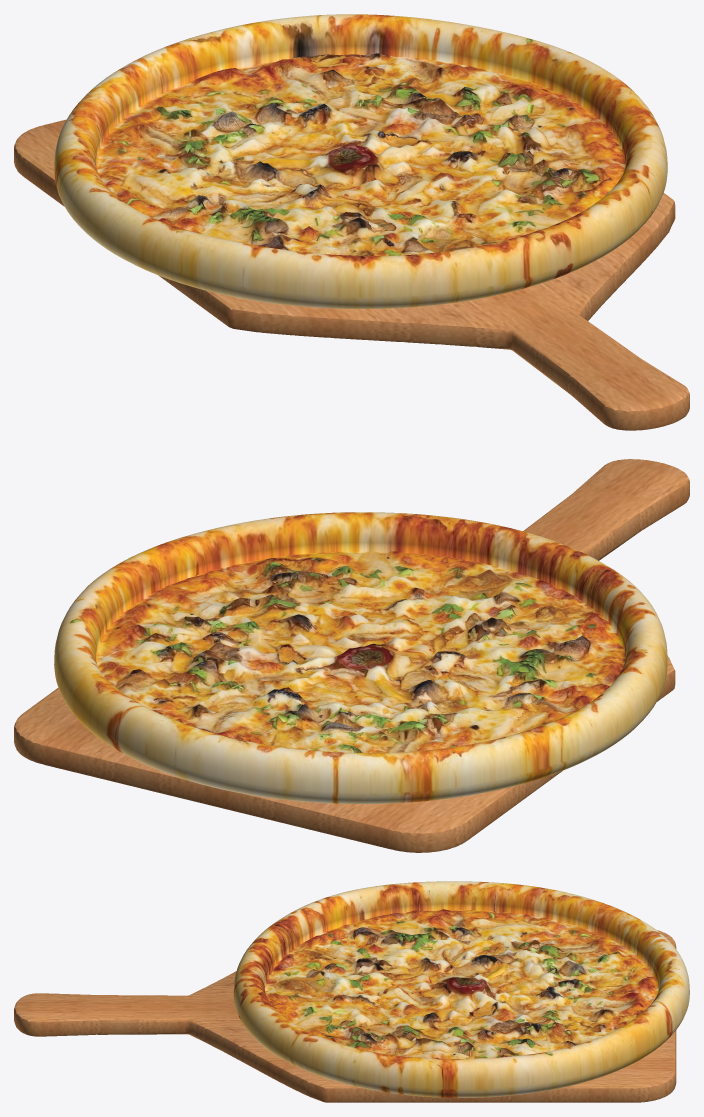
File: pizza-chicken-shawerma.glb
The picture shows the model from 3 angles, top to bottom: view 1: azimuth 30°, elevation 25°; view 2: azimuth 150°, elevation 25°; view 3: azimuth 270°, elevation 25°; orthographic projection. The views are drawn at different scales.
Parts seen in each view (by area): view 1: pizza-chicken-shawerma, peel.006; view 2: pizza-chicken-shawerma, peel.006; view 3: pizza-chicken-shawerma, peel.006.
Boxes of the visible parts, x1=… form: pizza-chicken-shawerma: x1=54, y1=14, x2=667, y2=308; peel.006: x1=14, y1=119, x2=689, y2=430; pizza-chicken-shawerma: x1=54, y1=512, x2=667, y2=804; peel.006: x1=14, y1=459, x2=689, y2=852; pizza-chicken-shawerma: x1=233, y1=881, x2=689, y2=1097; peel.006: x1=14, y1=930, x2=676, y2=1102.
Bounding box in the file's own units: 0.3 × 0.0398 × 0.4444.
3 materials, 2 textured.
